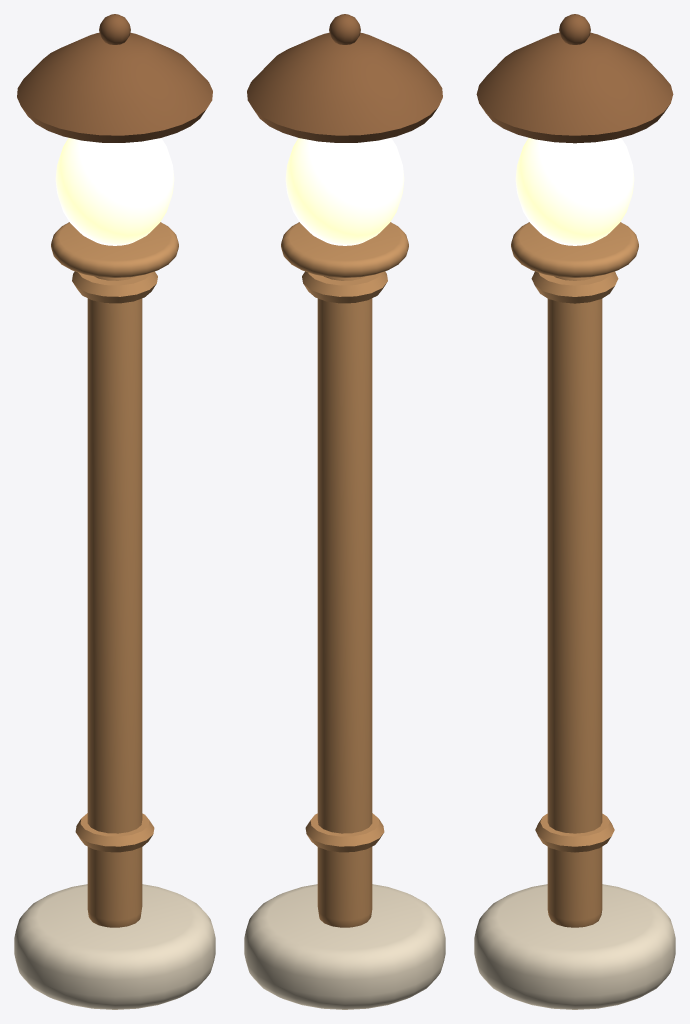
File: hub_lamp.glb
3 views of the same model, side by side, from view 1: azimuth 30°, elevation 25°; view 2: azimuth 150°, elevation 25°; view 3: azimuth 270°, elevation 25° (orthographic).
Visible parts, largest first — view 1: HubLamp; view 2: HubLamp; view 3: HubLamp.
Boxes of the visible parts, x1,y1,x2,y2 form: HubLamp: (14,14,215,1009); HubLamp: (244,14,445,1009); HubLamp: (474,14,675,1009).
Size of the model in its own units: 0.44 by 2.32 by 0.44.
